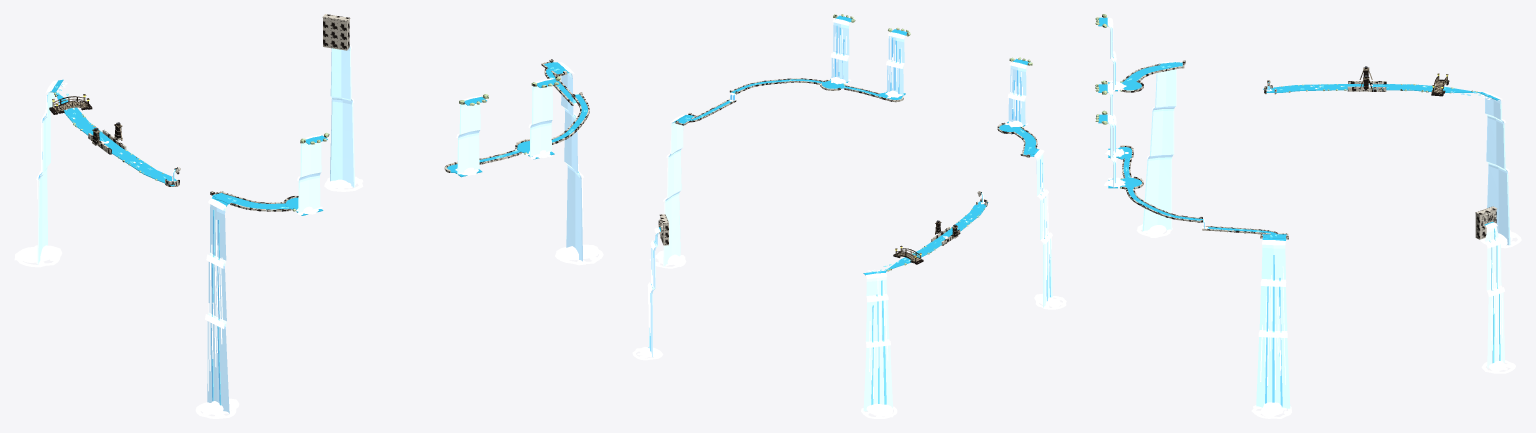
Rendered from ILHA1_06_WATER_1c2e64.fbx.
3 renders of one model, left to right at view 1: azimuth 30°, elevation 25°; view 2: azimuth 150°, elevation 25°; view 3: azimuth 270°, elevation 25°, orthographic. The views are drawn at different scales.
Visible parts, largest first — view 1: WATER_SeaFalls__Water_WtrSheet, WATER_BackFalls__Water_WtrSheet, WATER_SeaFalls__Foam_g15_11, WATER_Canal_East__Water, WATER_SeaFalls__Foam_g15_13, WATER_SeaFalls__Stone_Wall_Dark, WATER_BackFalls__Water, WATER_SeaFalls__Foam_g17_12, WATER_SeaFalls__Water_WtrFall, WATER_Canal_West__Water, WATER_Canal_East__Stone_Wall_Light; view 2: WATER_SeaFalls__Water_WtrSheet, WATER_BackFalls__Water_WtrSheet, WATER_SeaFalls__Foam_g15_13, WATER_Canal_East__Water, WATER_SeaFalls__Water_WtrFall, WATER_SeaFalls__Foam_g15_11, WATER_BackFalls__Foam_g16_11, WATER_BackFalls__Water_WtrFall, WATER_SeaFalls__Foam_g16_13, WATER_BackFalls__Water, WATER_SeaFalls__Foam_g17_12, WATER_BackFalls__Foam_g15_11 (+2 smaller); view 3: WATER_SeaFalls__Water_WtrSheet, WATER_SeaFalls__Foam_g17_12, WATER_Canal_East__Water, WATER_SeaFalls__Water_WtrFall, WATER_SeaFalls__Foam_g16_13, WATER_BackFalls__Water, WATER_BackFalls__Foam_g16_11, WATER_Canal_West__Water, WATER_Canal_West__Stone_Wall_Light, WATER_Canal_East__Stone_Wall_Light, WATER_SeaFalls__Stone_Wall_Dark, WATER_BackFalls__Water_WtrSheet.
Boxes of the visible parts, <box> form: WATER_SeaFalls__Water_WtrSheet: <box>37,46,582,413</box>; WATER_BackFalls__Water_WtrSheet: <box>298,79,552,212</box>; WATER_SeaFalls__Foam_g15_11: <box>195,198,239,418</box>; WATER_Canal_East__Water: <box>54,91,290,209</box>; WATER_SeaFalls__Foam_g15_13: <box>14,80,62,267</box>; WATER_SeaFalls__Stone_Wall_Dark: <box>322,14,350,50</box>; WATER_BackFalls__Water: <box>285,79,559,215</box>; WATER_SeaFalls__Foam_g17_12: <box>555,62,603,265</box>; WATER_SeaFalls__Water_WtrFall: <box>38,95,579,405</box>; WATER_Canal_West__Water: <box>544,62,587,142</box>; WATER_Canal_East__Stone_Wall_Light: <box>88,130,291,211</box>; WATER_SeaFalls__Water_WtrSheet: <box>649,116,1052,411</box>; WATER_BackFalls__Water_WtrSheet: <box>831,19,1026,125</box>; WATER_SeaFalls__Foam_g15_13: <box>861,273,897,418</box>; WATER_Canal_East__Water: <box>885,129,1036,271</box>; WATER_SeaFalls__Water_WtrFall: <box>648,154,1050,404</box>; WATER_SeaFalls__Foam_g15_11: <box>1034,149,1066,309</box>; WATER_BackFalls__Foam_g16_11: <box>830,18,905,98</box>; WATER_BackFalls__Water_WtrFall: <box>835,25,1021,121</box>; WATER_SeaFalls__Foam_g16_13: <box>632,227,663,360</box>; WATER_BackFalls__Water: <box>822,15,1030,133</box>; WATER_SeaFalls__Foam_g17_12: <box>649,114,686,268</box>; WATER_BackFalls__Foam_g15_11: <box>1005,61,1028,127</box>; WATER_SeaFalls__Water_WtrSheet: <box>1142,62,1510,408</box>; WATER_SeaFalls__Foam_g17_12: <box>1251,240,1291,418</box>; WATER_Canal_East__Water: <box>1124,62,1479,92</box>; WATER_SeaFalls__Water_WtrFall: <box>1265,228,1500,406</box>; WATER_SeaFalls__Foam_g16_13: <box>1481,222,1515,373</box>; WATER_BackFalls__Water: <box>1098,17,1141,188</box>; WATER_BackFalls__Foam_g16_11: <box>1104,84,1128,187</box>; WATER_Canal_West__Water: <box>1127,188,1286,238</box>; WATER_Canal_West__Stone_Wall_Light: <box>1125,188,1288,235</box>; WATER_Canal_East__Stone_Wall_Light: <box>1122,63,1386,92</box>; WATER_SeaFalls__Stone_Wall_Dark: <box>1475,206,1497,239</box>; WATER_BackFalls__Water_WtrSheet: <box>1108,19,1114,187</box>.
Size of the model in its own units: 325 by 187 by 297.
Materials: 9 (3 with a texture image).
